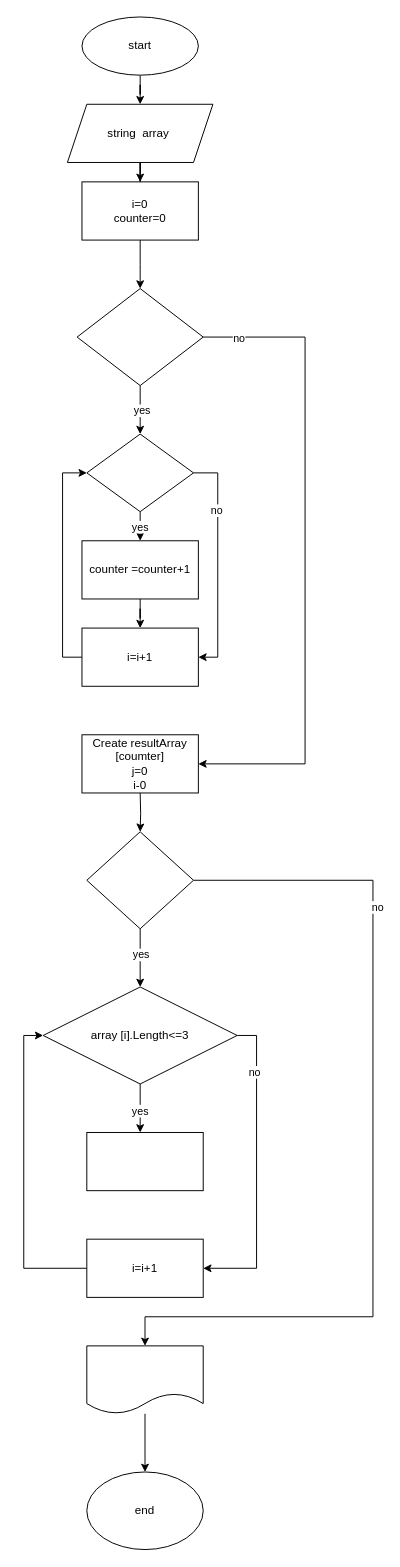
Image size: 400x1567. Some labels were removed from this diagram. Each missing label, with the box of its shape:
array[i].length <=3: (86, 433, 194, 512)
i < array.length: (76, 288, 203, 386)
i<array.length: (86, 831, 194, 929)
resultArray: (86, 1345, 203, 1414)
resultarray[j]=array[i] j=j+1: (86, 1132, 203, 1191)
